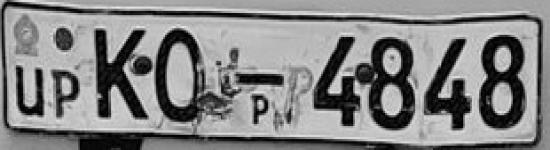-: (232, 62, 290, 98)
4: (306, 32, 364, 131), (422, 34, 478, 136)
8: (364, 28, 420, 135), (478, 29, 531, 130)
K: (93, 22, 156, 130)
O: (153, 22, 213, 131)
P: (50, 62, 83, 122)
U: (12, 60, 49, 122)
